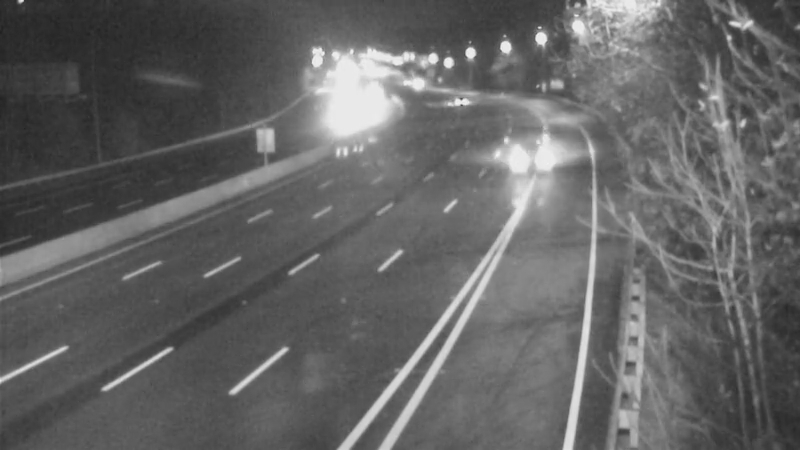vehicle: (490, 117, 570, 197), (437, 77, 487, 127)
